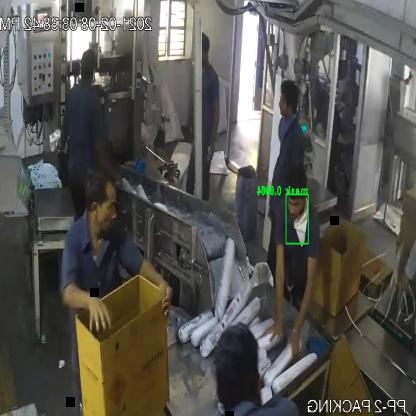no_glove: (285, 251, 319, 365), (56, 275, 108, 339), (266, 229, 292, 352), (137, 251, 177, 312)
